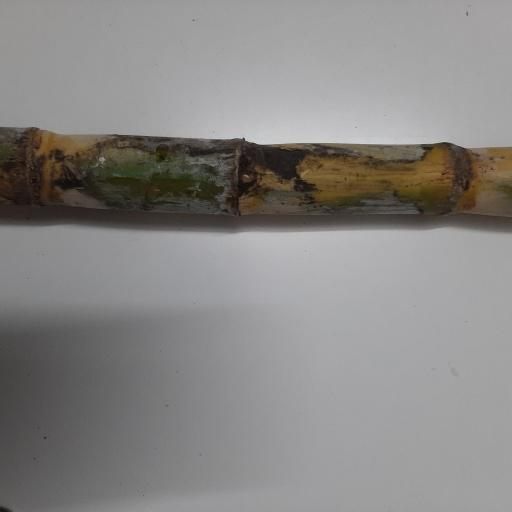Bud: (238, 165, 259, 189)
